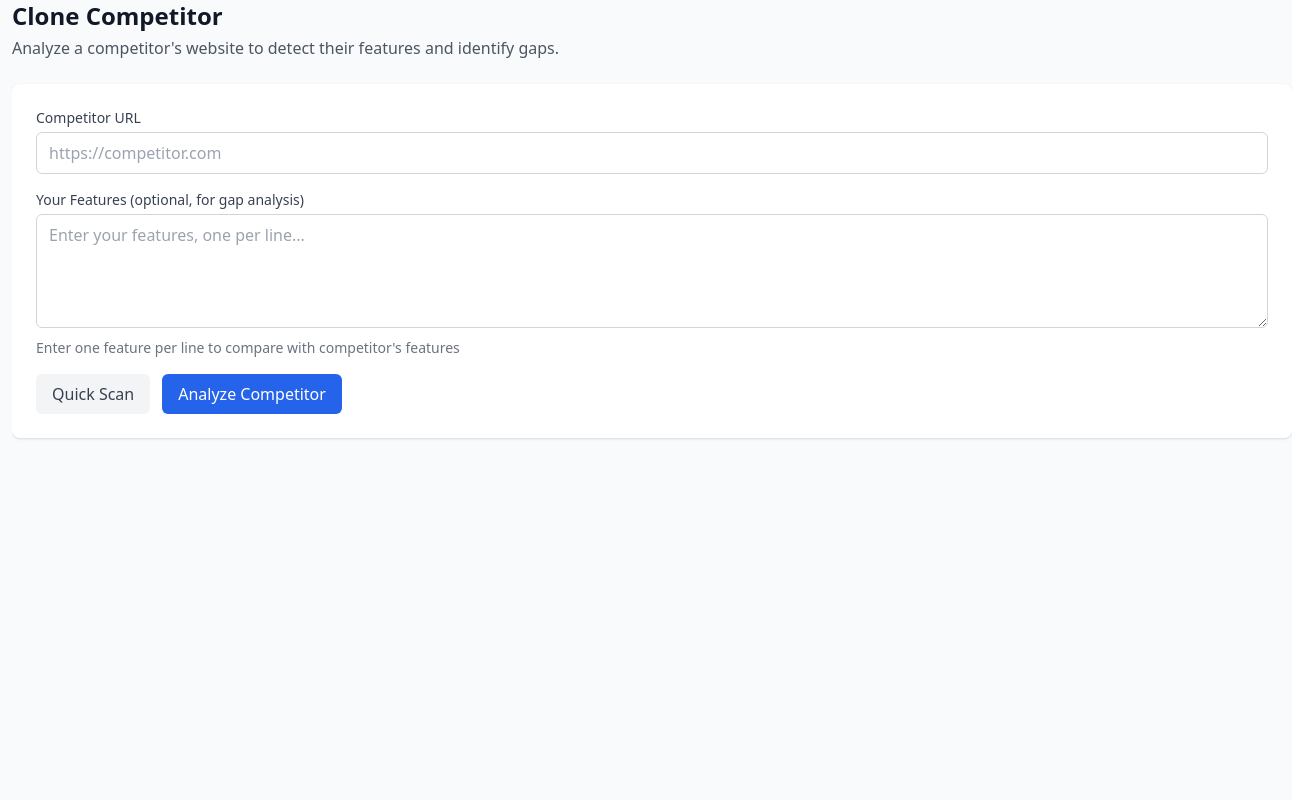
Test: ClonePage › should display error when add to tracking fails
The width and height of the screenshot is (1292, 800).
In the field labelled "Competitor URL": {"x": 652, "y": 153} 36,132 -> 1268,174, type "https://test.com"
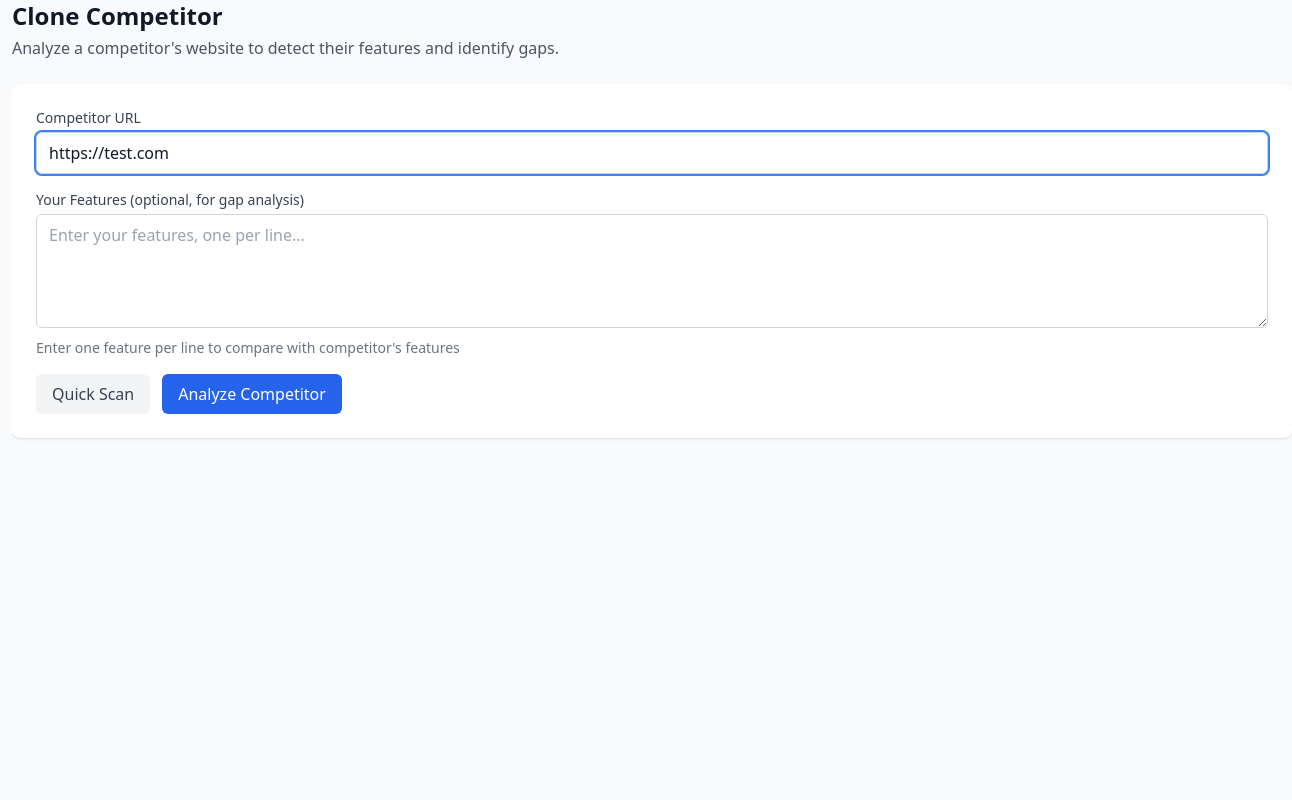
Click the button "Analyze Competitor": {"x": 252, "y": 394} 162,374 -> 342,414
(page scrolled)
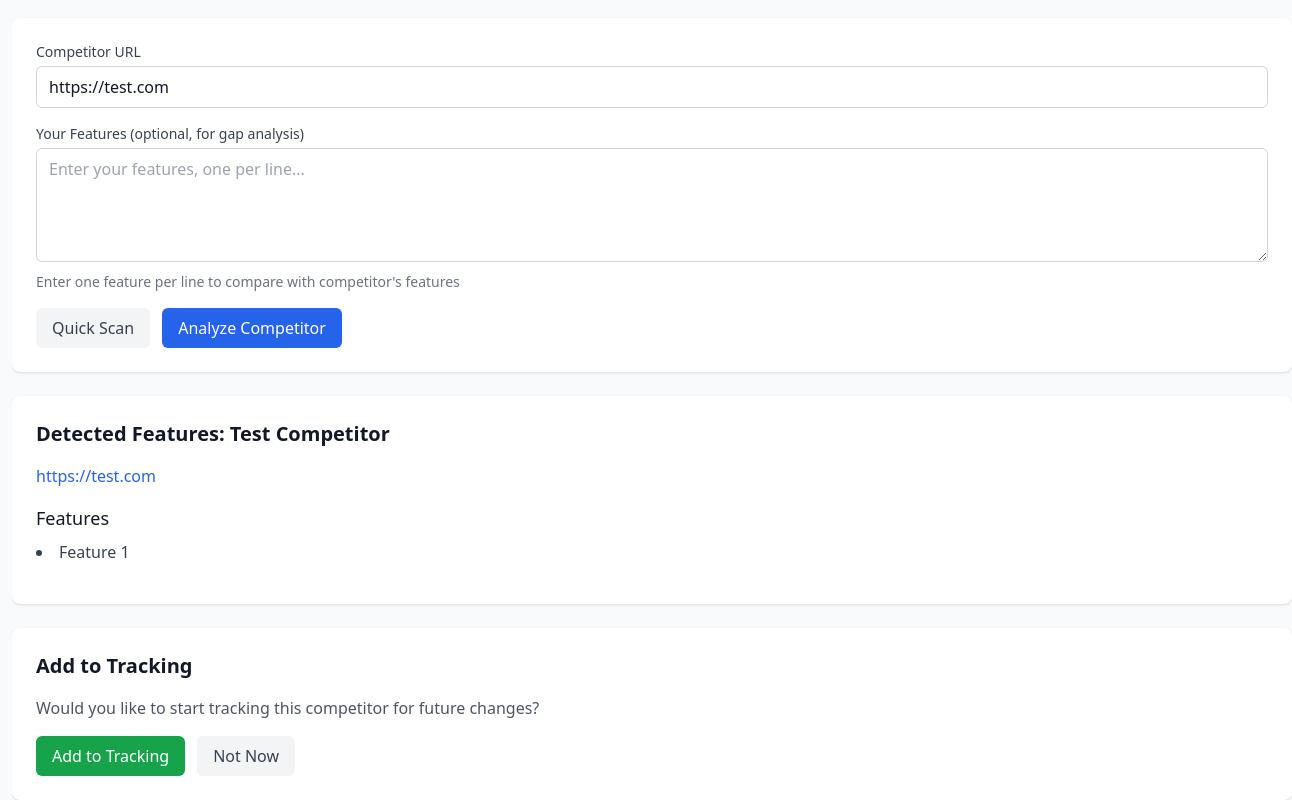
Expected: the heading "Add to Tracking" is shown, 36,652 -> 192,679
Click the button "Add to Tracking": {"x": 111, "y": 756} 36,736 -> 185,776
(page scrolled)
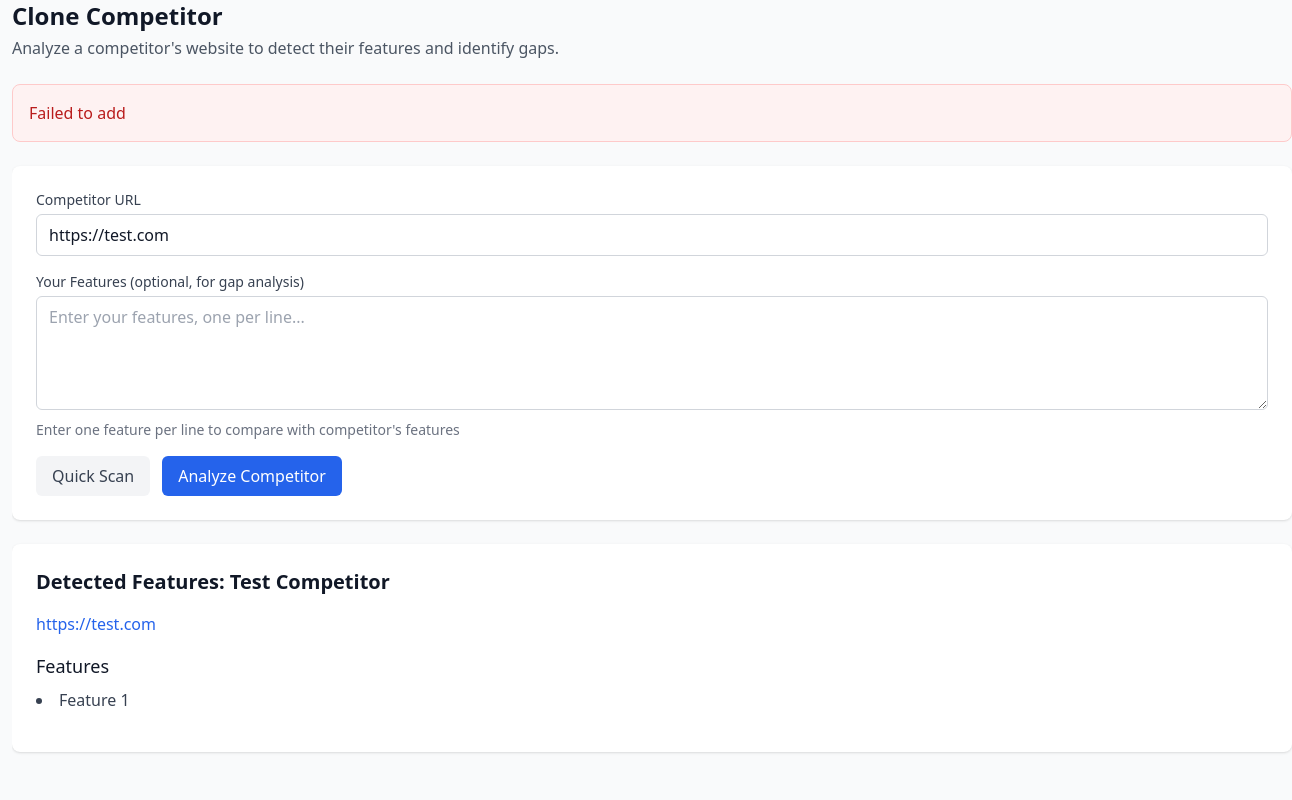
Expected: the text "Failed to add" is shown, 29,102 -> 126,124
